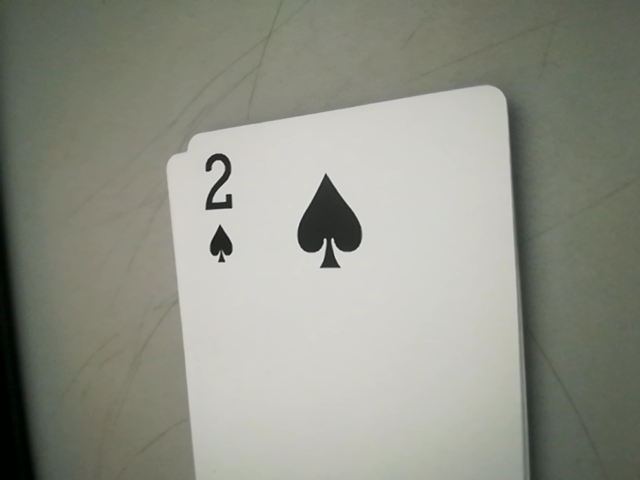ht 2: (188, 145, 257, 276)
